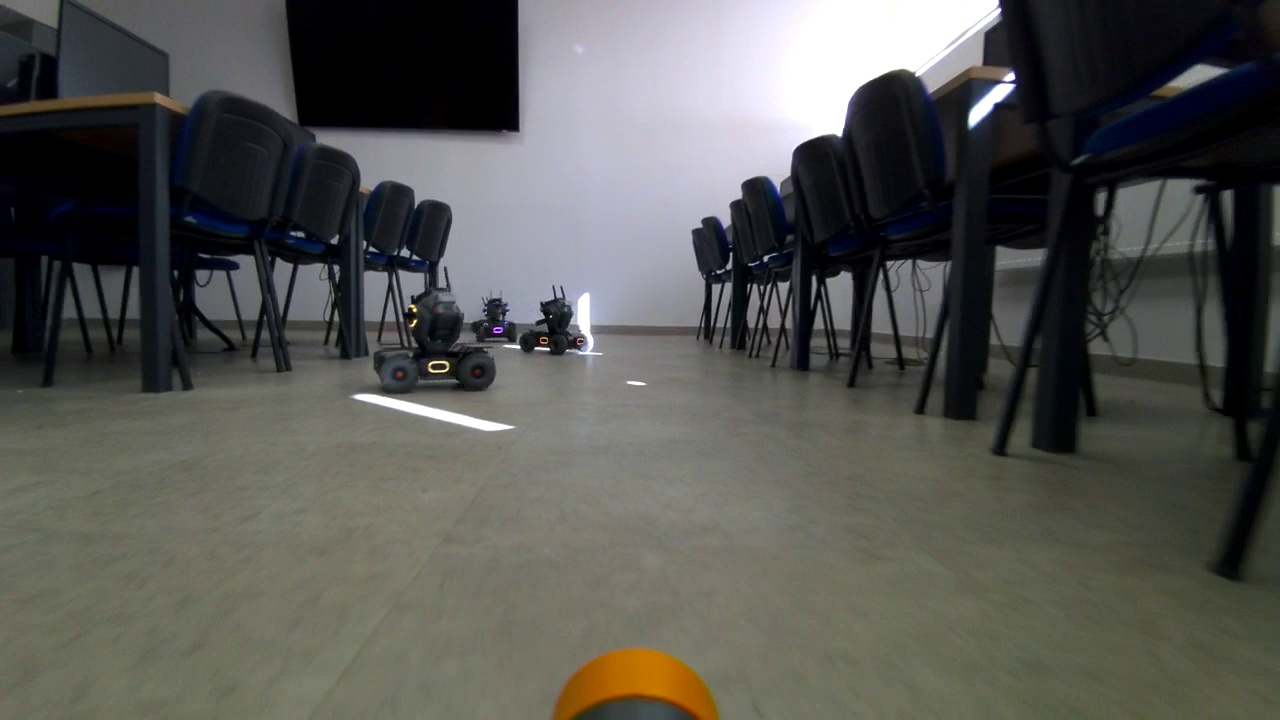robot: (372, 279, 495, 392), (519, 286, 592, 356), (471, 285, 514, 344)
